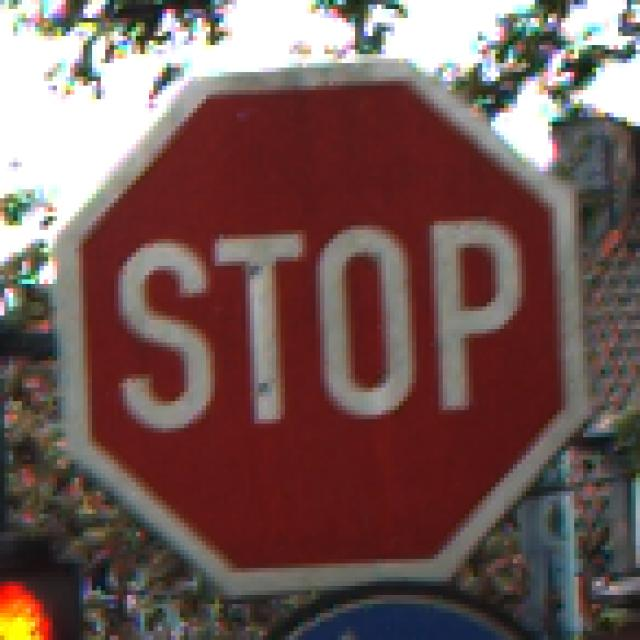STOP: (58, 60, 588, 587)
